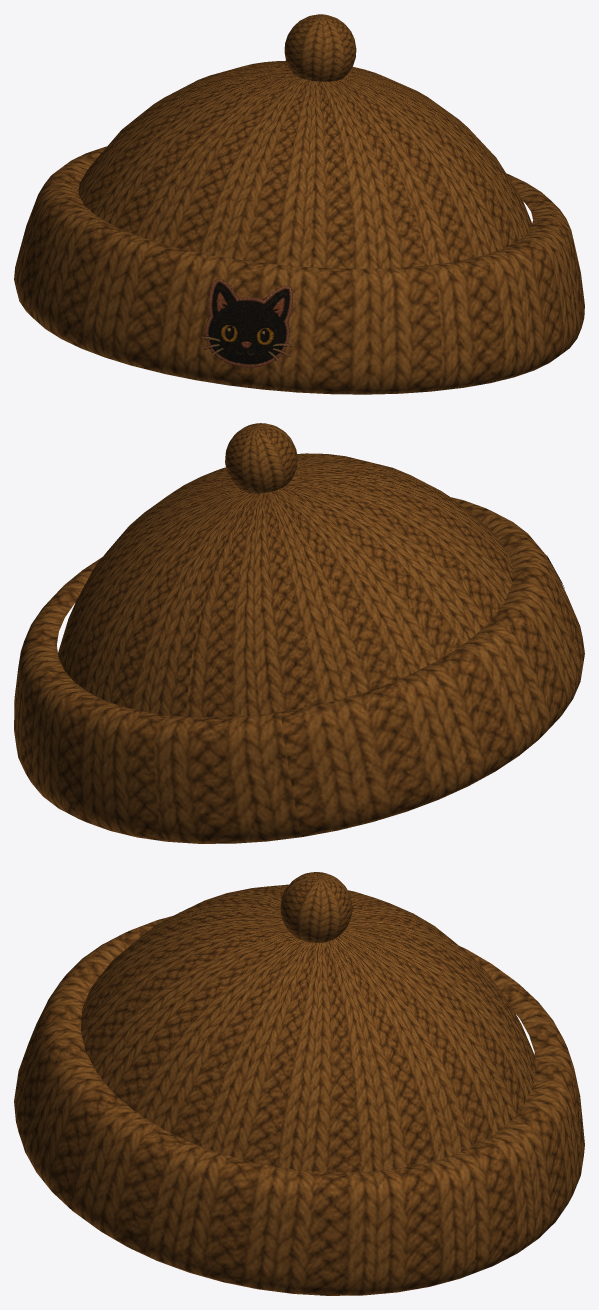
Rendered from bonnet.glb.
3 renders of one model, top to bottom at view 1: azimuth 30°, elevation 25°; view 2: azimuth 150°, elevation 25°; view 3: azimuth 270°, elevation 25°, orthographic.
Visible parts, largest first — view 1: Cylinder001, Sphere001, Object001, Sphere002; view 2: Sphere001, Cylinder001, Sphere002; view 3: Sphere001, Cylinder001, Sphere002.
Part boxes in pixels (<box>): Cylinder001: <box>14,146,584,394</box>; Sphere001: <box>78,60,531,268</box>; Object001: <box>201,279,293,367</box>; Sphere002: <box>284,14,356,81</box>; Sphere001: <box>58,453,512,717</box>; Cylinder001: <box>14,497,584,843</box>; Sphere002: <box>225,423,297,493</box>; Sphere001: <box>80,884,535,1172</box>; Cylinder001: <box>14,916,584,1295</box>; Sphere002: <box>280,872,352,942</box>.
Size of the model in its own units: 2.04 by 1.31 by 2.05.
Materials: 2 (2 with a texture image).
